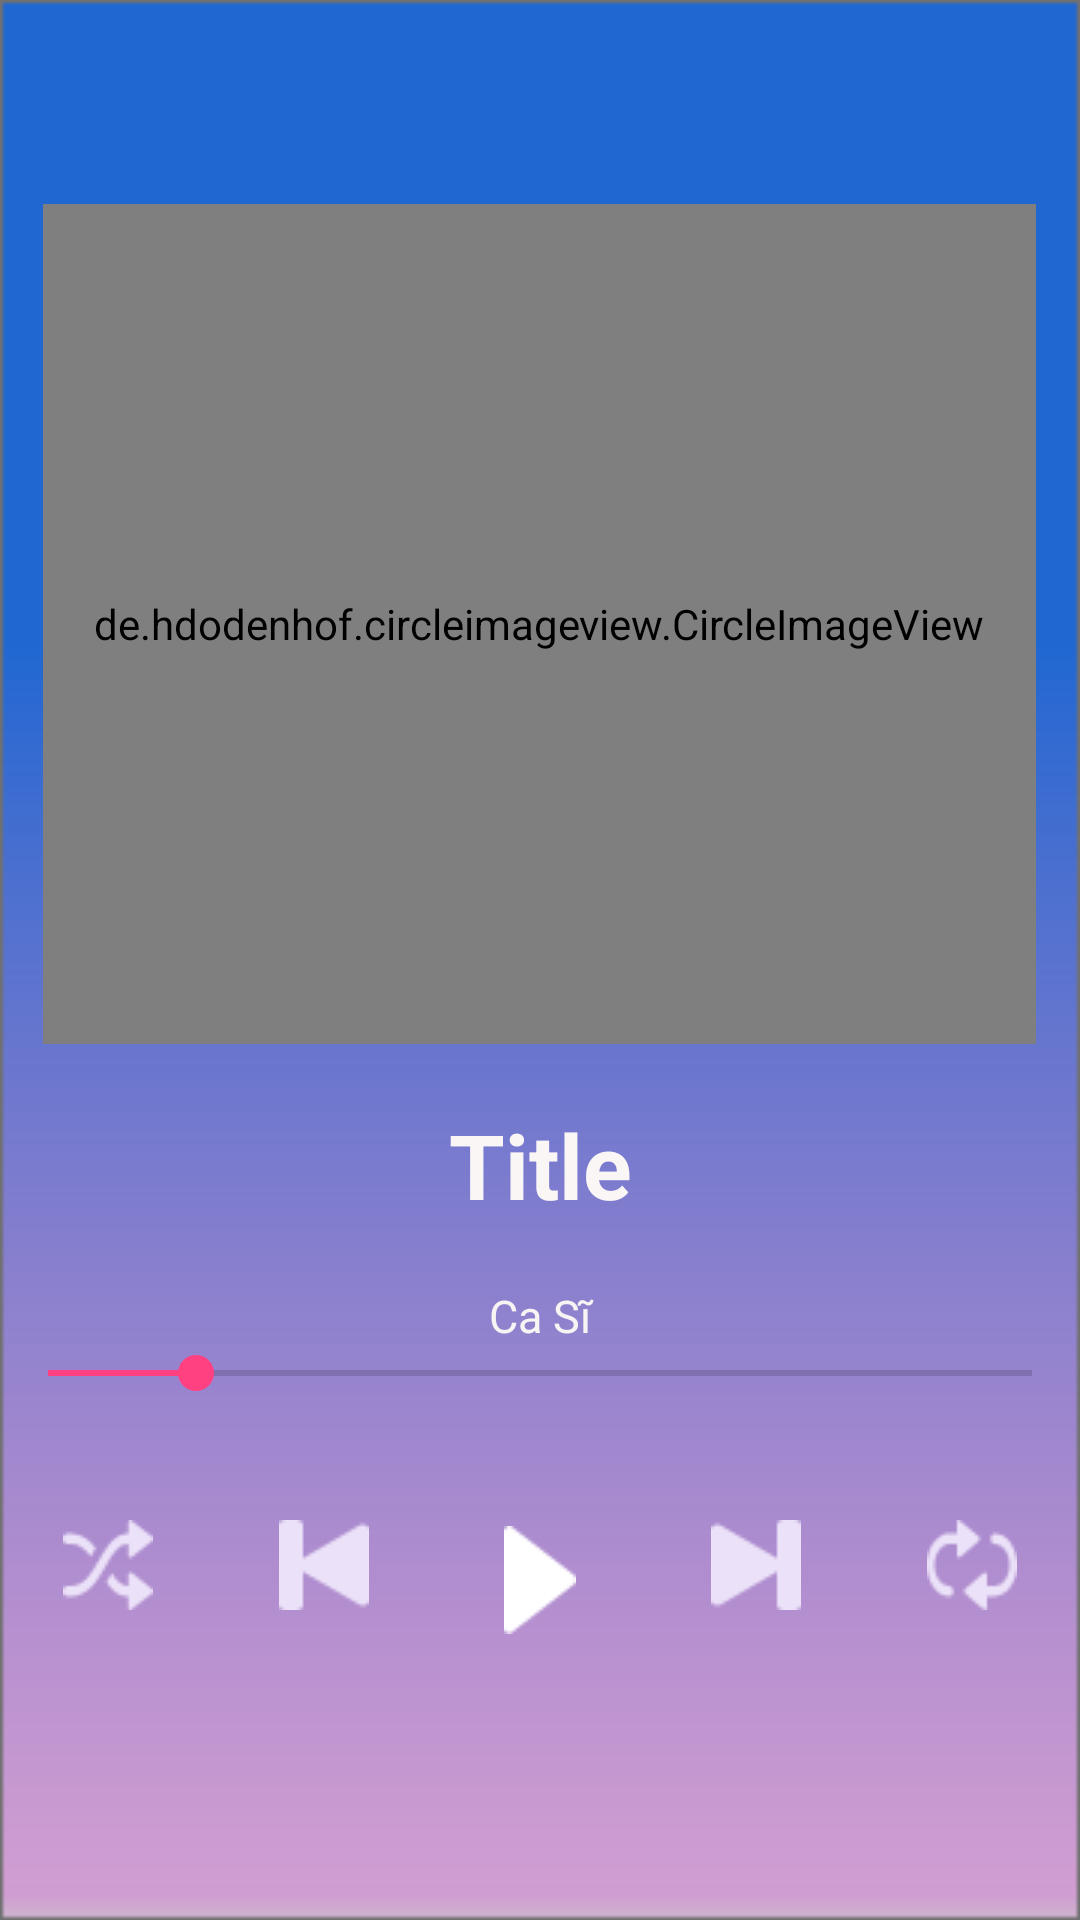

Point at icon controls on the screen. Image size 1080×1920, points as (x,y).
next: (756,1565)
pre: (324,1565)
repeat: (972,1565)
shuf: (108,1565)
